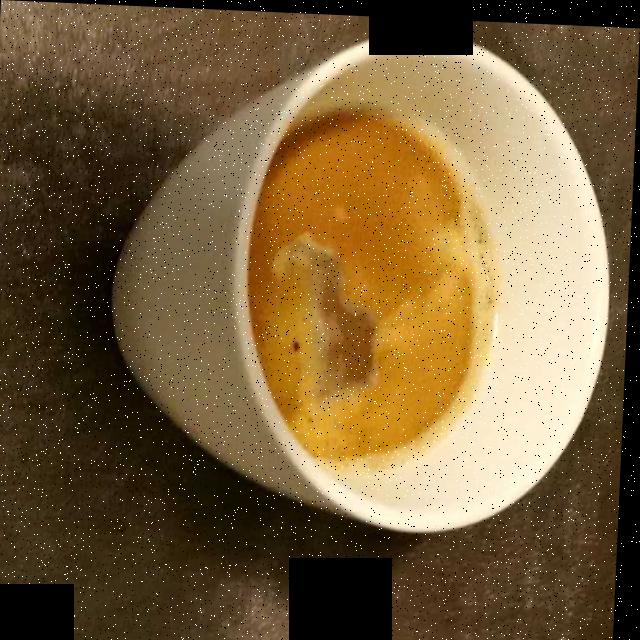coffee-with-caffeine: (256, 109, 488, 460)
